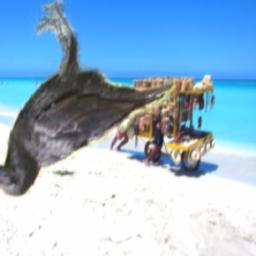Crow: (0, 1, 179, 198)
